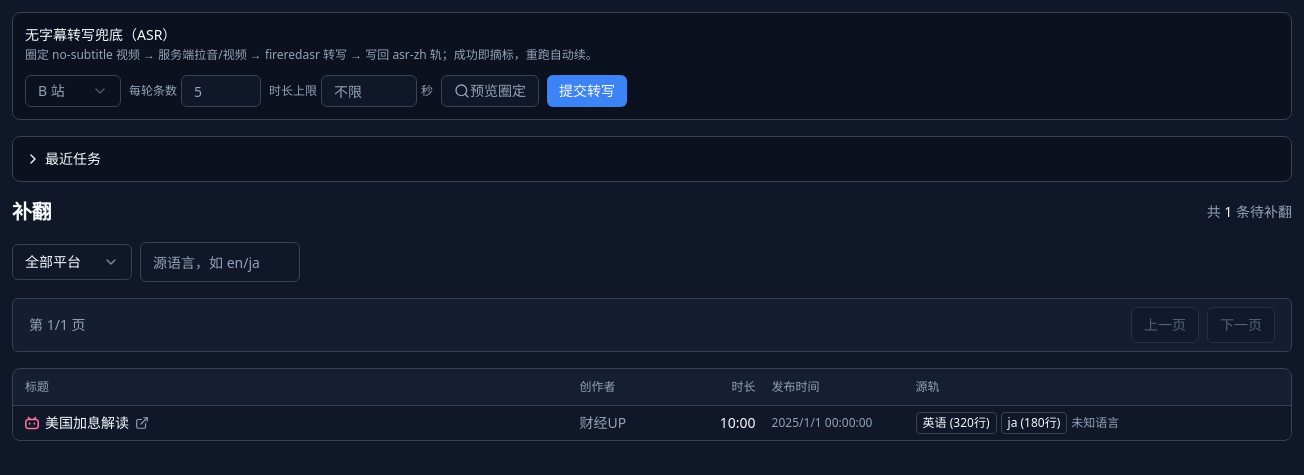
Scenario: 行点击进工作台：URL 写 vid=source:vid（清单随工作台替换而卸载）
整行点击 → vid（不带 from）
Click the text "美国加息解读". click: click(87, 422)
box: [45,412,129,432]
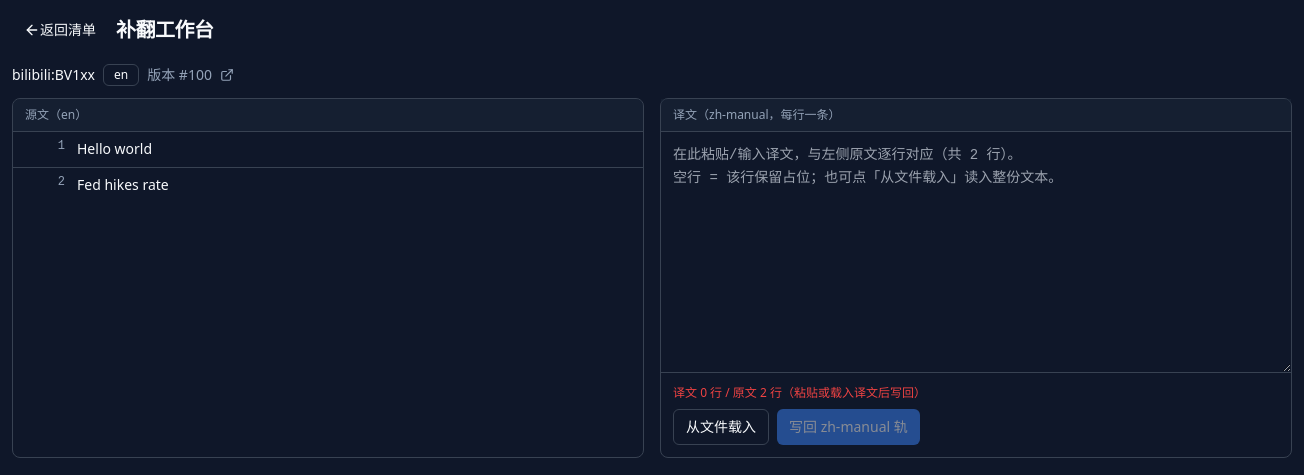
Now the button "ja (180行)" is gone
